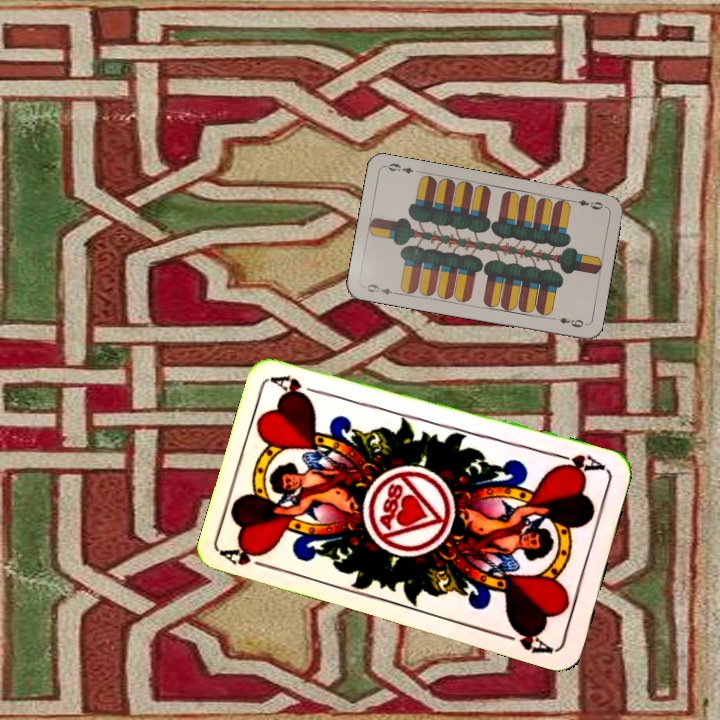E9: (363, 280, 401, 297), (567, 195, 605, 212)
HA: (220, 540, 278, 573), (549, 449, 610, 477)
